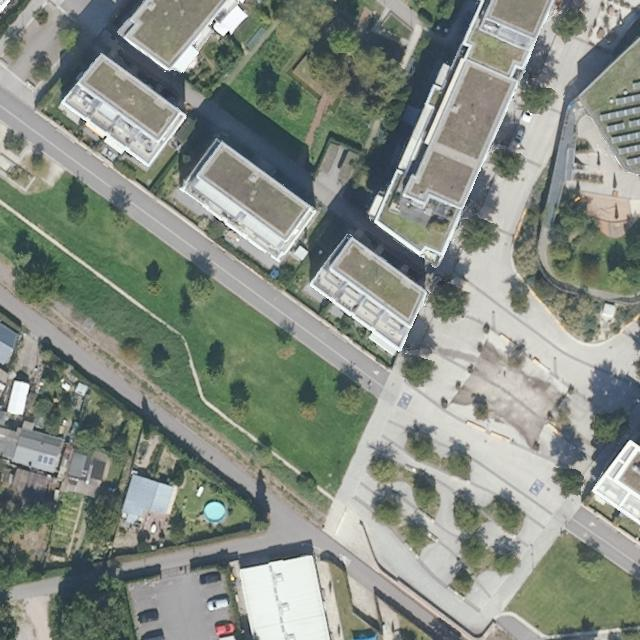PV: (598, 104, 639, 124), (608, 129, 639, 146), (614, 92, 639, 107), (616, 142, 639, 158), (604, 120, 626, 135), (624, 155, 639, 168), (628, 117, 640, 129), (632, 80, 639, 91)
